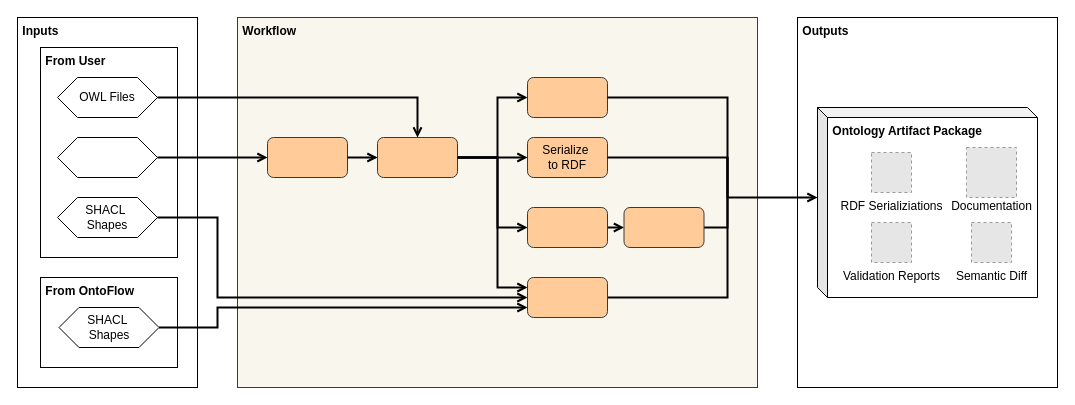
The diagram is 1075 pixels wide and 405 high, and some of its shapes have lost their labels. Grey dashed boxes stand in for pictures. Each missing label, with the centre of its shape:
Chowlk Diagrams: (x=107, y=157)
Convert to OWL: (x=307, y=157)
Diff Detection: (x=663, y=227)
Document Ontology: (x=567, y=97)
Merge Ontology Files: (x=417, y=157)
Validate Ontology: (x=567, y=297)
Versioning: (x=567, y=227)
